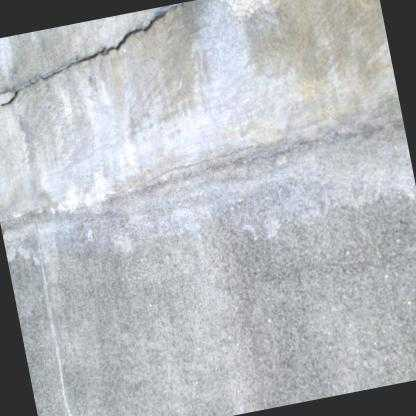crack: (0, 0, 193, 106)
